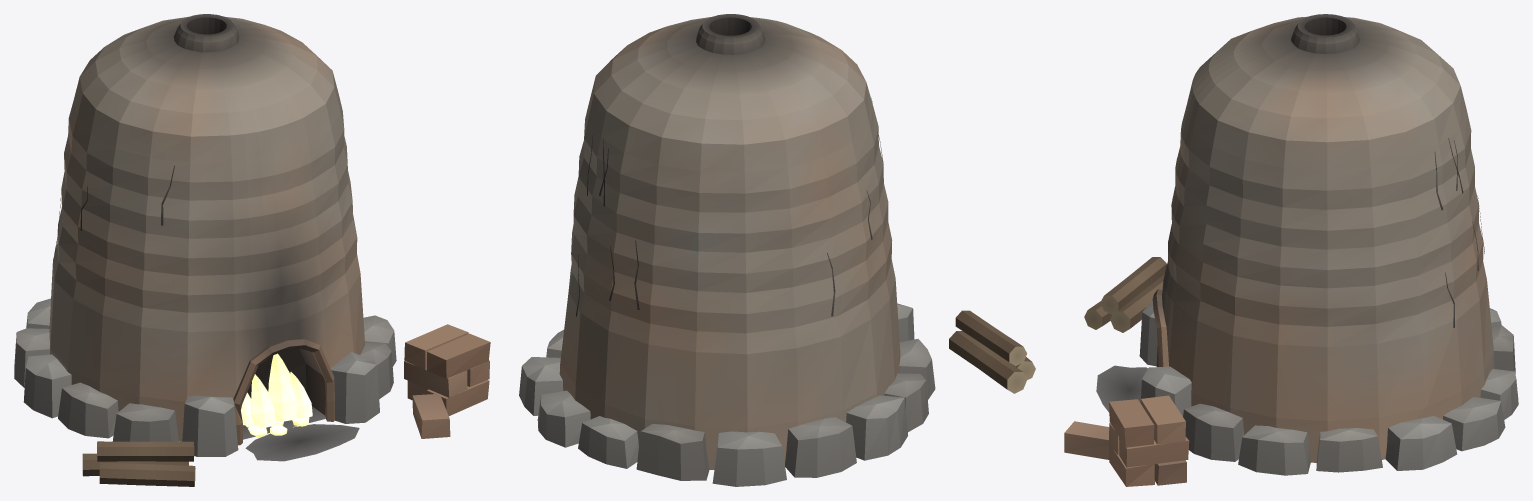
The model's file is kiln_a.glb.
3 renders of one model, left to right at view 1: azimuth 30°, elevation 25°; view 2: azimuth 150°, elevation 25°; view 3: azimuth 270°, elevation 25°, orthographic. The views are drawn at different scales.
Parts seen in each view (by area): view 1: Base, Flame; view 2: Base; view 3: Base.
Boxes of the visible parts, left/top/right/bottom form: Base: left=14, top=14, right=490, bottom=486; Flame: left=241, top=353, right=312, bottom=437; Base: left=519, top=14, right=1035, bottom=486; Base: left=1064, top=14, right=1518, bottom=486.
Bounding box in the file's own units: 1.75 × 1.51 × 1.68.
